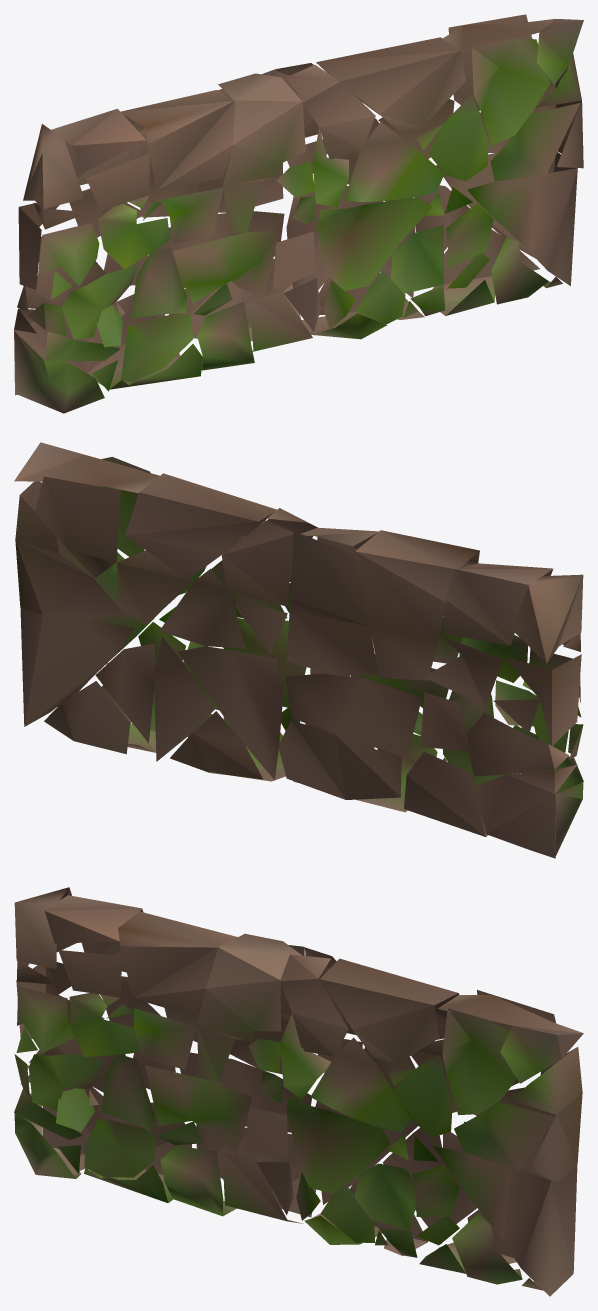
Rendered from outfield_wall.gltf.
The picture shows the model from 3 angles, top to bottom: view 1: azimuth 30°, elevation 25°; view 2: azimuth 150°, elevation 25°; view 3: azimuth 330°, elevation 25°; orthographic projection.
Visible parts, largest first — view 1: Mesh_0; view 2: Mesh_0; view 3: Mesh_0.
Boxes of the visible parts, <box> form: Mesh_0: <box>14,14,583,413</box>; Mesh_0: <box>14,442,583,858</box>; Mesh_0: <box>14,887,583,1296</box>.
Bounding box in the file's own units: 1.9 × 0.899 × 0.2363.
